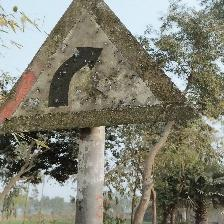Right-turn: (0, 1, 192, 133)
